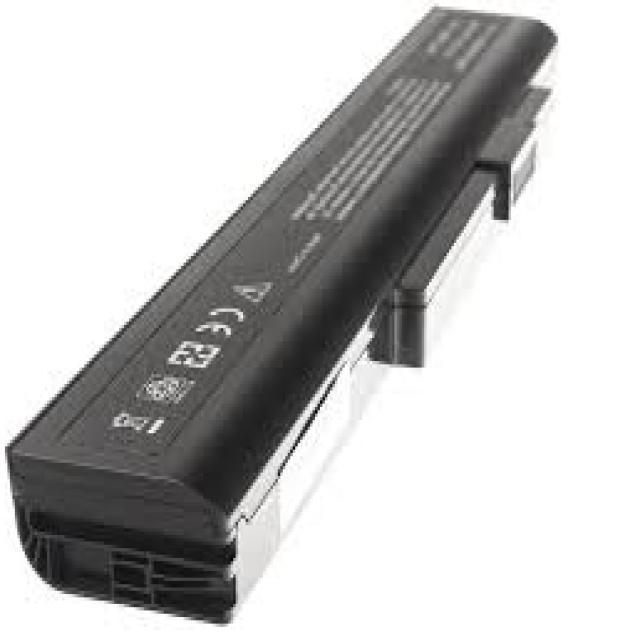battery: (9, 6, 560, 627)
